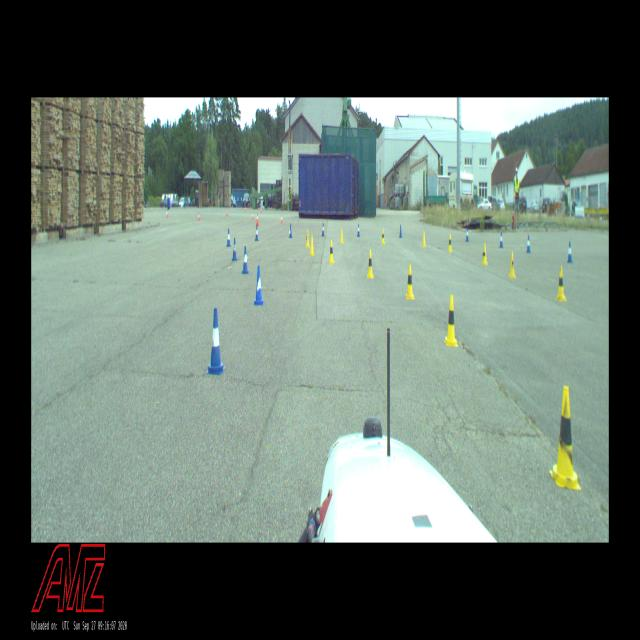blue_cone: (208, 308, 223, 374), (254, 266, 264, 304), (242, 246, 248, 274), (232, 238, 237, 260), (499, 232, 504, 248), (568, 242, 572, 262), (526, 235, 530, 253), (255, 226, 259, 241), (227, 229, 230, 246), (289, 223, 292, 238), (466, 228, 469, 242), (357, 224, 360, 236), (399, 225, 402, 237), (322, 222, 324, 235)
orange_cone: (256, 213, 259, 226), (198, 212, 200, 221), (280, 214, 282, 223), (166, 209, 168, 218), (226, 208, 228, 216), (252, 212, 254, 220), (245, 205, 246, 212), (261, 208, 262, 213)
yellow_cone: (552, 387, 578, 488), (445, 295, 457, 346), (557, 266, 565, 300), (406, 264, 414, 298), (509, 252, 515, 278), (368, 250, 373, 278), (482, 243, 488, 264), (329, 240, 334, 263), (448, 234, 452, 252), (310, 236, 314, 254), (306, 230, 310, 247), (340, 228, 344, 244), (381, 229, 385, 244), (422, 232, 426, 246)
